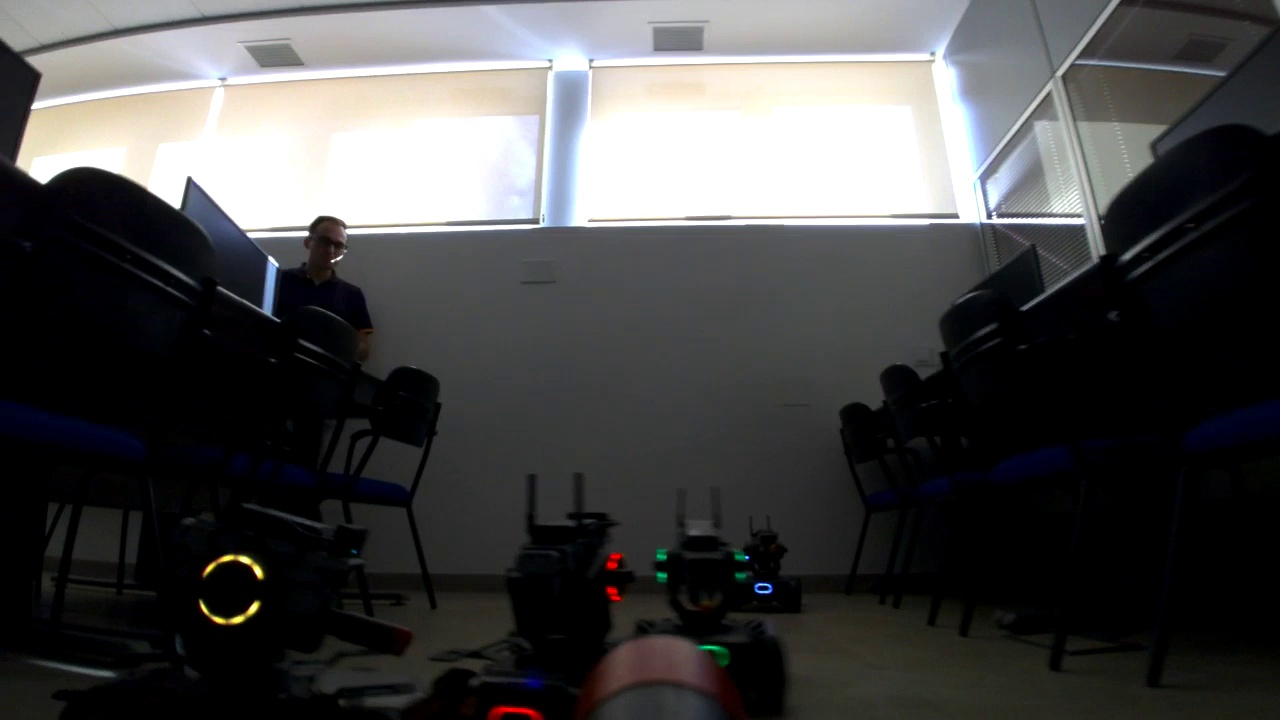robot: (52, 451, 412, 720), (428, 472, 634, 720), (636, 486, 789, 716), (719, 508, 799, 609)
